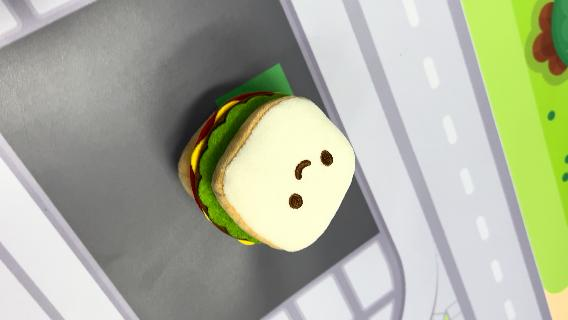sandwich: (176, 89, 358, 254)
